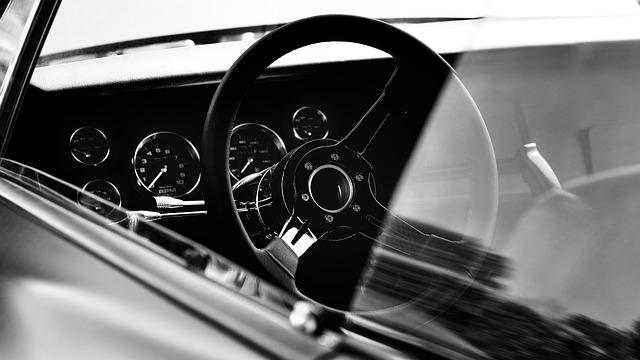Non_Gorille: (23, 3, 581, 360)
